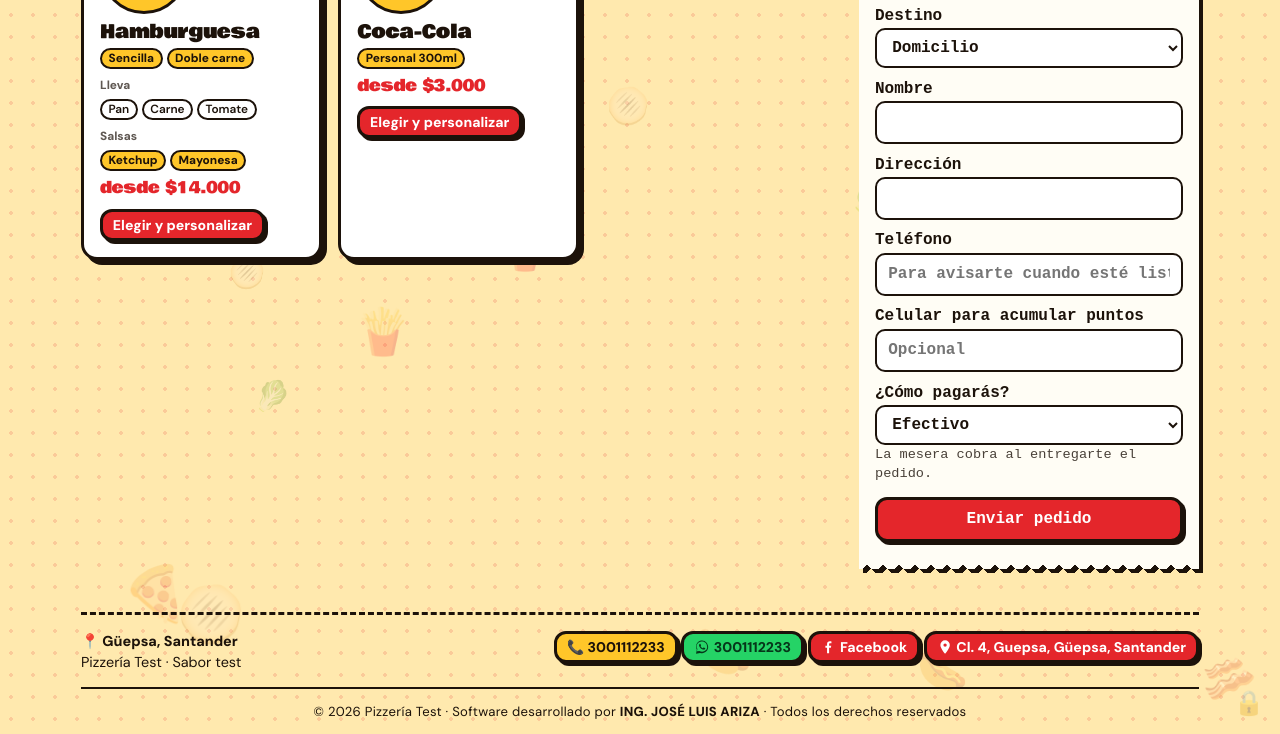
ClientePage · destino, pago y envío › avisa si falta algo antes de confirmar
This screenshot has width=1280, height=734.
(page scrolled)
Click the button "Enviar pedido" at coordinates (1029, 520), box top-left (875, 498), bottom-right (1183, 543)
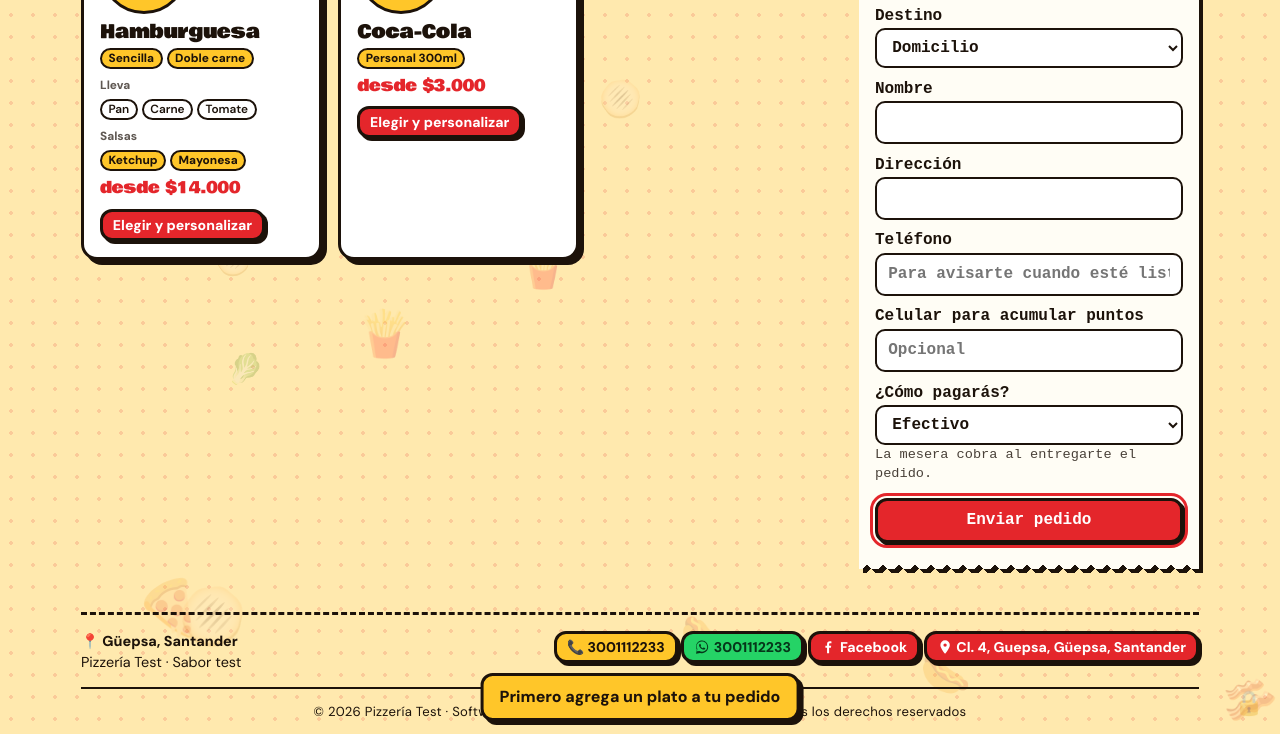
Click the button "Elegir y personalizar" below "$14.000" at coordinates (182, 225), box top-left (100, 209), bottom-right (265, 241)
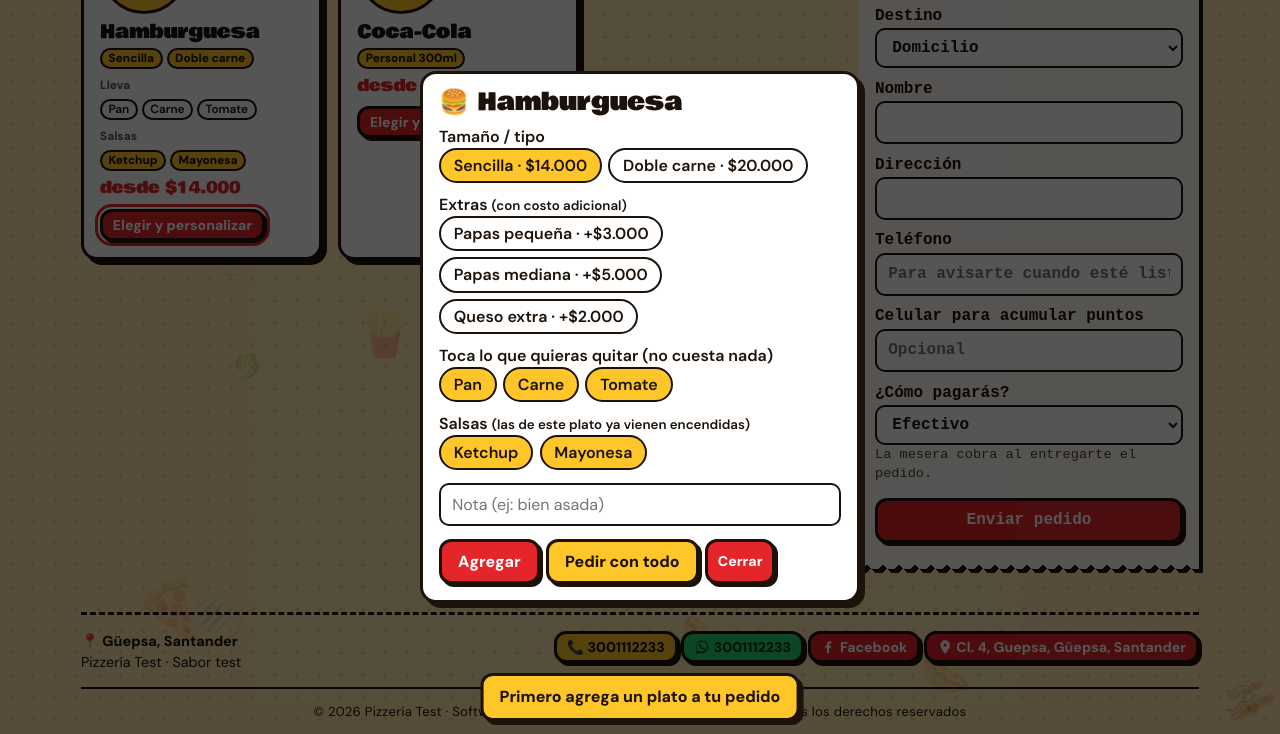
Click the button "Agregar" at coordinates (489, 562), box top-left (439, 539), bottom-right (540, 584)
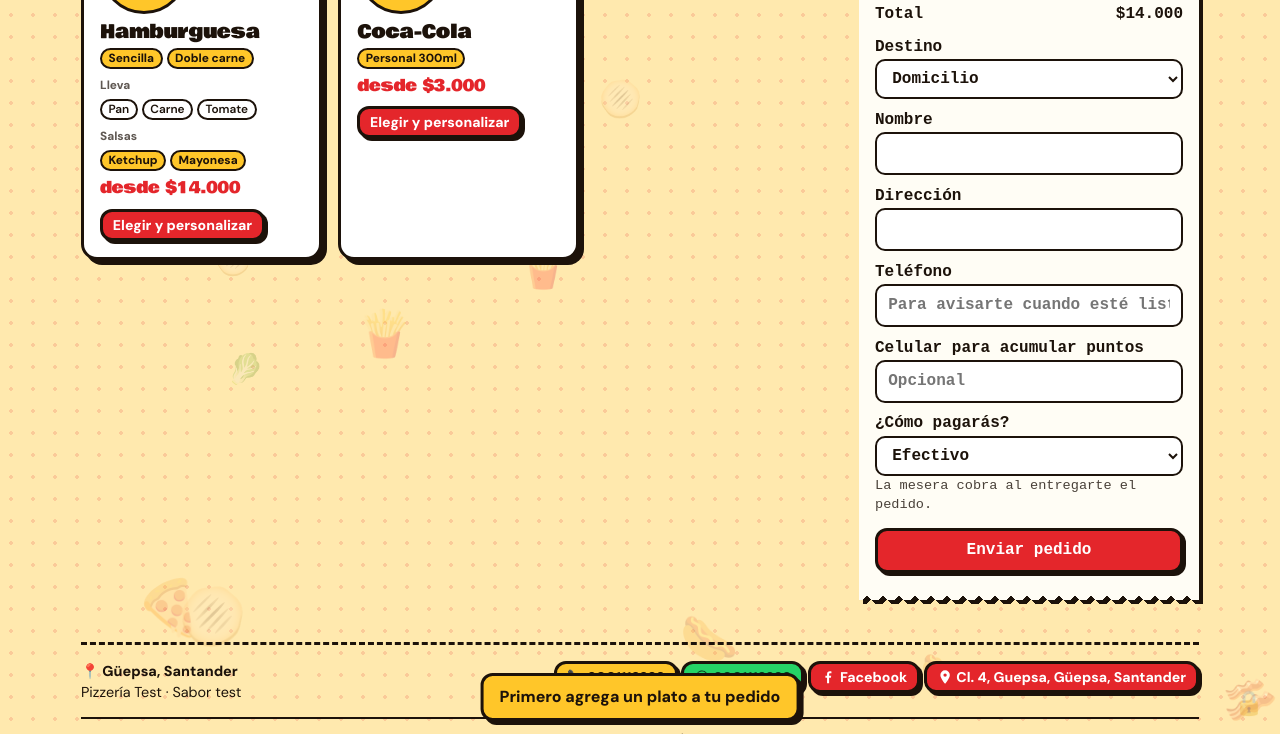
Click the button "Enviar pedido" at coordinates (1029, 550), box top-left (875, 528), bottom-right (1183, 573)
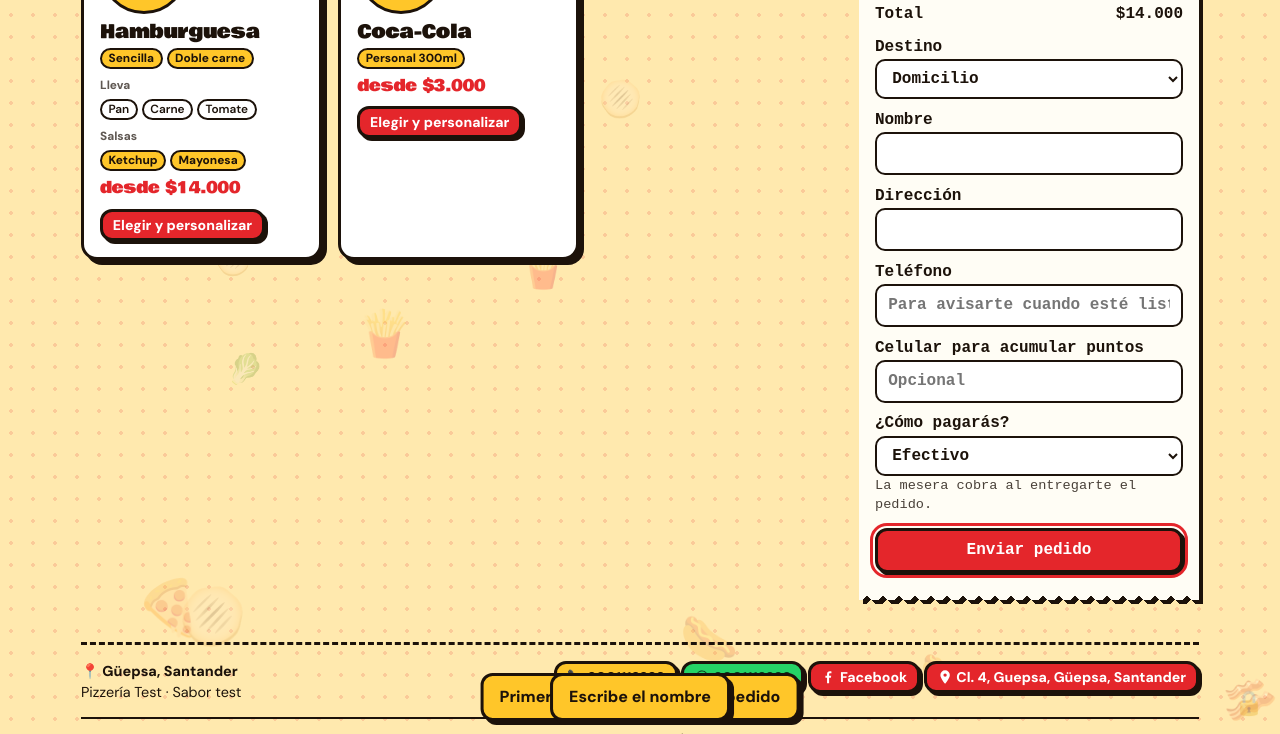
Expected: the text "Escribe el nombre" is shown, top-left (550, 673), bottom-right (730, 721)
